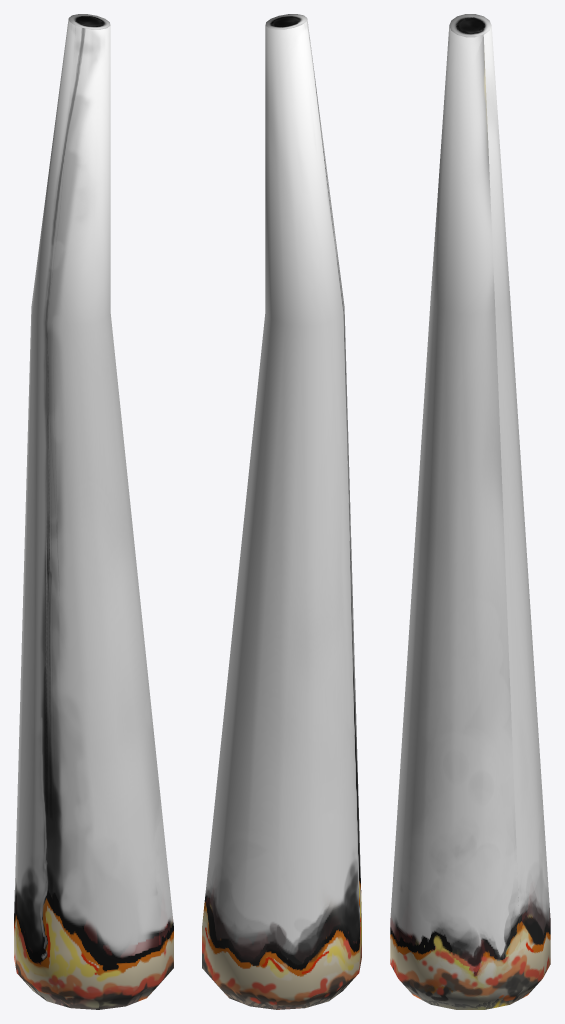
The model's file is joint.fbx.
3 renders of one model, left to right at view 1: azimuth 30°, elevation 25°; view 2: azimuth 150°, elevation 25°; view 3: azimuth 270°, elevation 25°, orthographic.
Visible parts, largest first — view 1: Cone; view 2: Cone; view 3: Cone.
Part boxes in pixels (x1,y1,x2,y2): Cone: (14,14,173,1009); Cone: (202,14,361,1009); Cone: (390,14,550,1009).
Bounding box in the file's own units: 52.3 × 353 × 53.65.
1 material, 1 textured.
